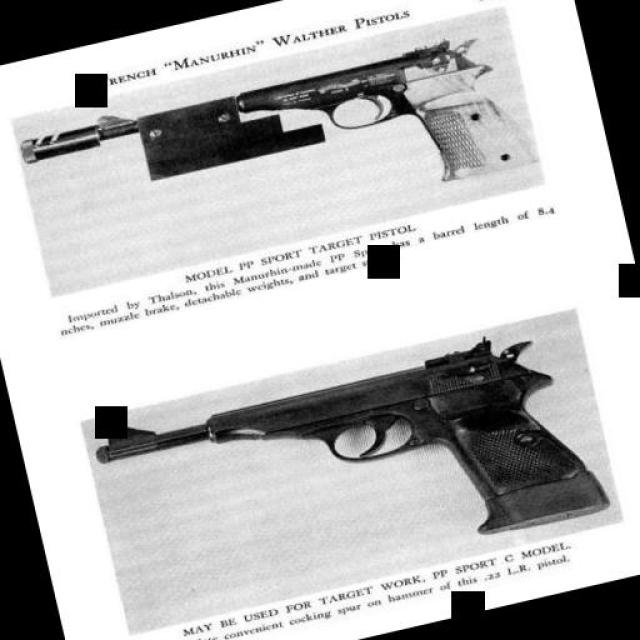gun: (84, 314, 621, 626), (15, 18, 537, 278)
